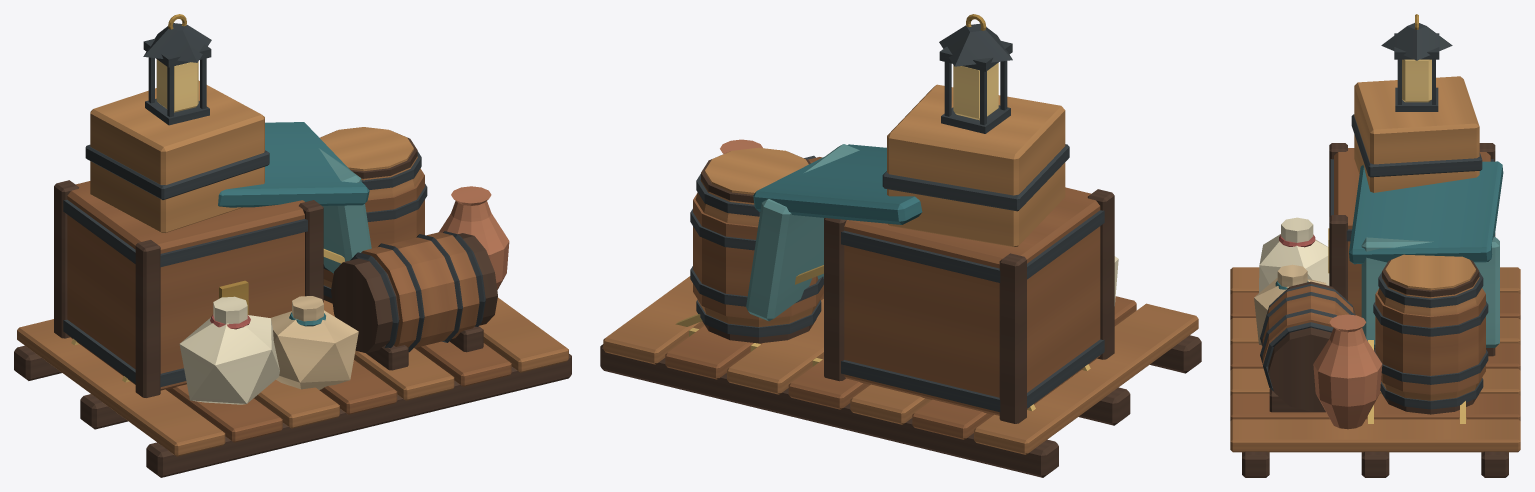
Rendered from expedition_supply_cache.glb.
3 views of the same model, side by side, from view 1: azimuth 30°, elevation 25°; view 2: azimuth 150°, elevation 25°; view 3: azimuth 270°, elevation 25° (orthographic). The views are drawn at different scales.
Visible parts, largest first — view 1: expedition_supply_cache; view 2: expedition_supply_cache; view 3: expedition_supply_cache.
Part boxes in pixels (x1,y1,x2,y2): expedition_supply_cache: (14, 14, 571, 477); expedition_supply_cache: (600, 14, 1201, 477); expedition_supply_cache: (1230, 14, 1520, 477).
Size of the model in its own units: 1.88 by 1.59 by 1.26.
1 material, 1 textured.
